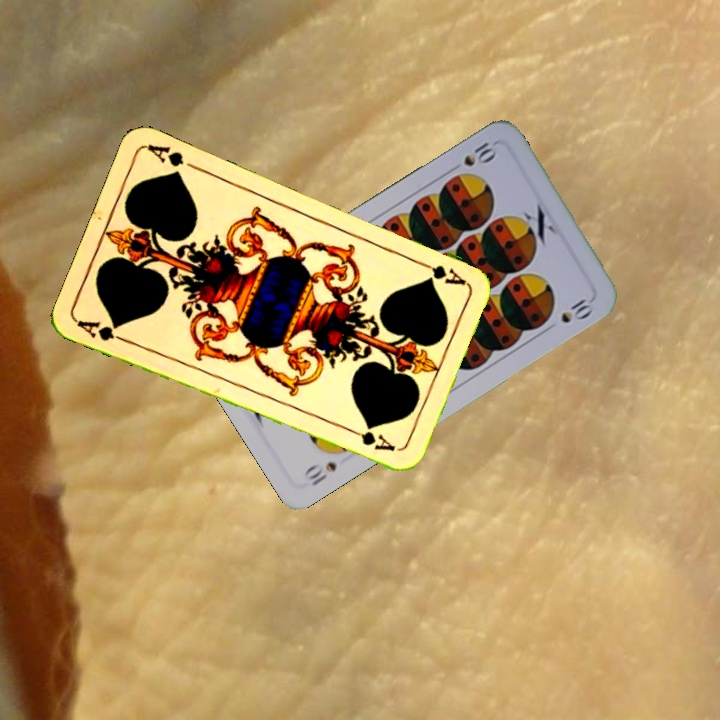GA: (412, 256, 468, 288), (73, 316, 131, 346)
S10: (445, 135, 500, 175), (300, 457, 340, 489)
